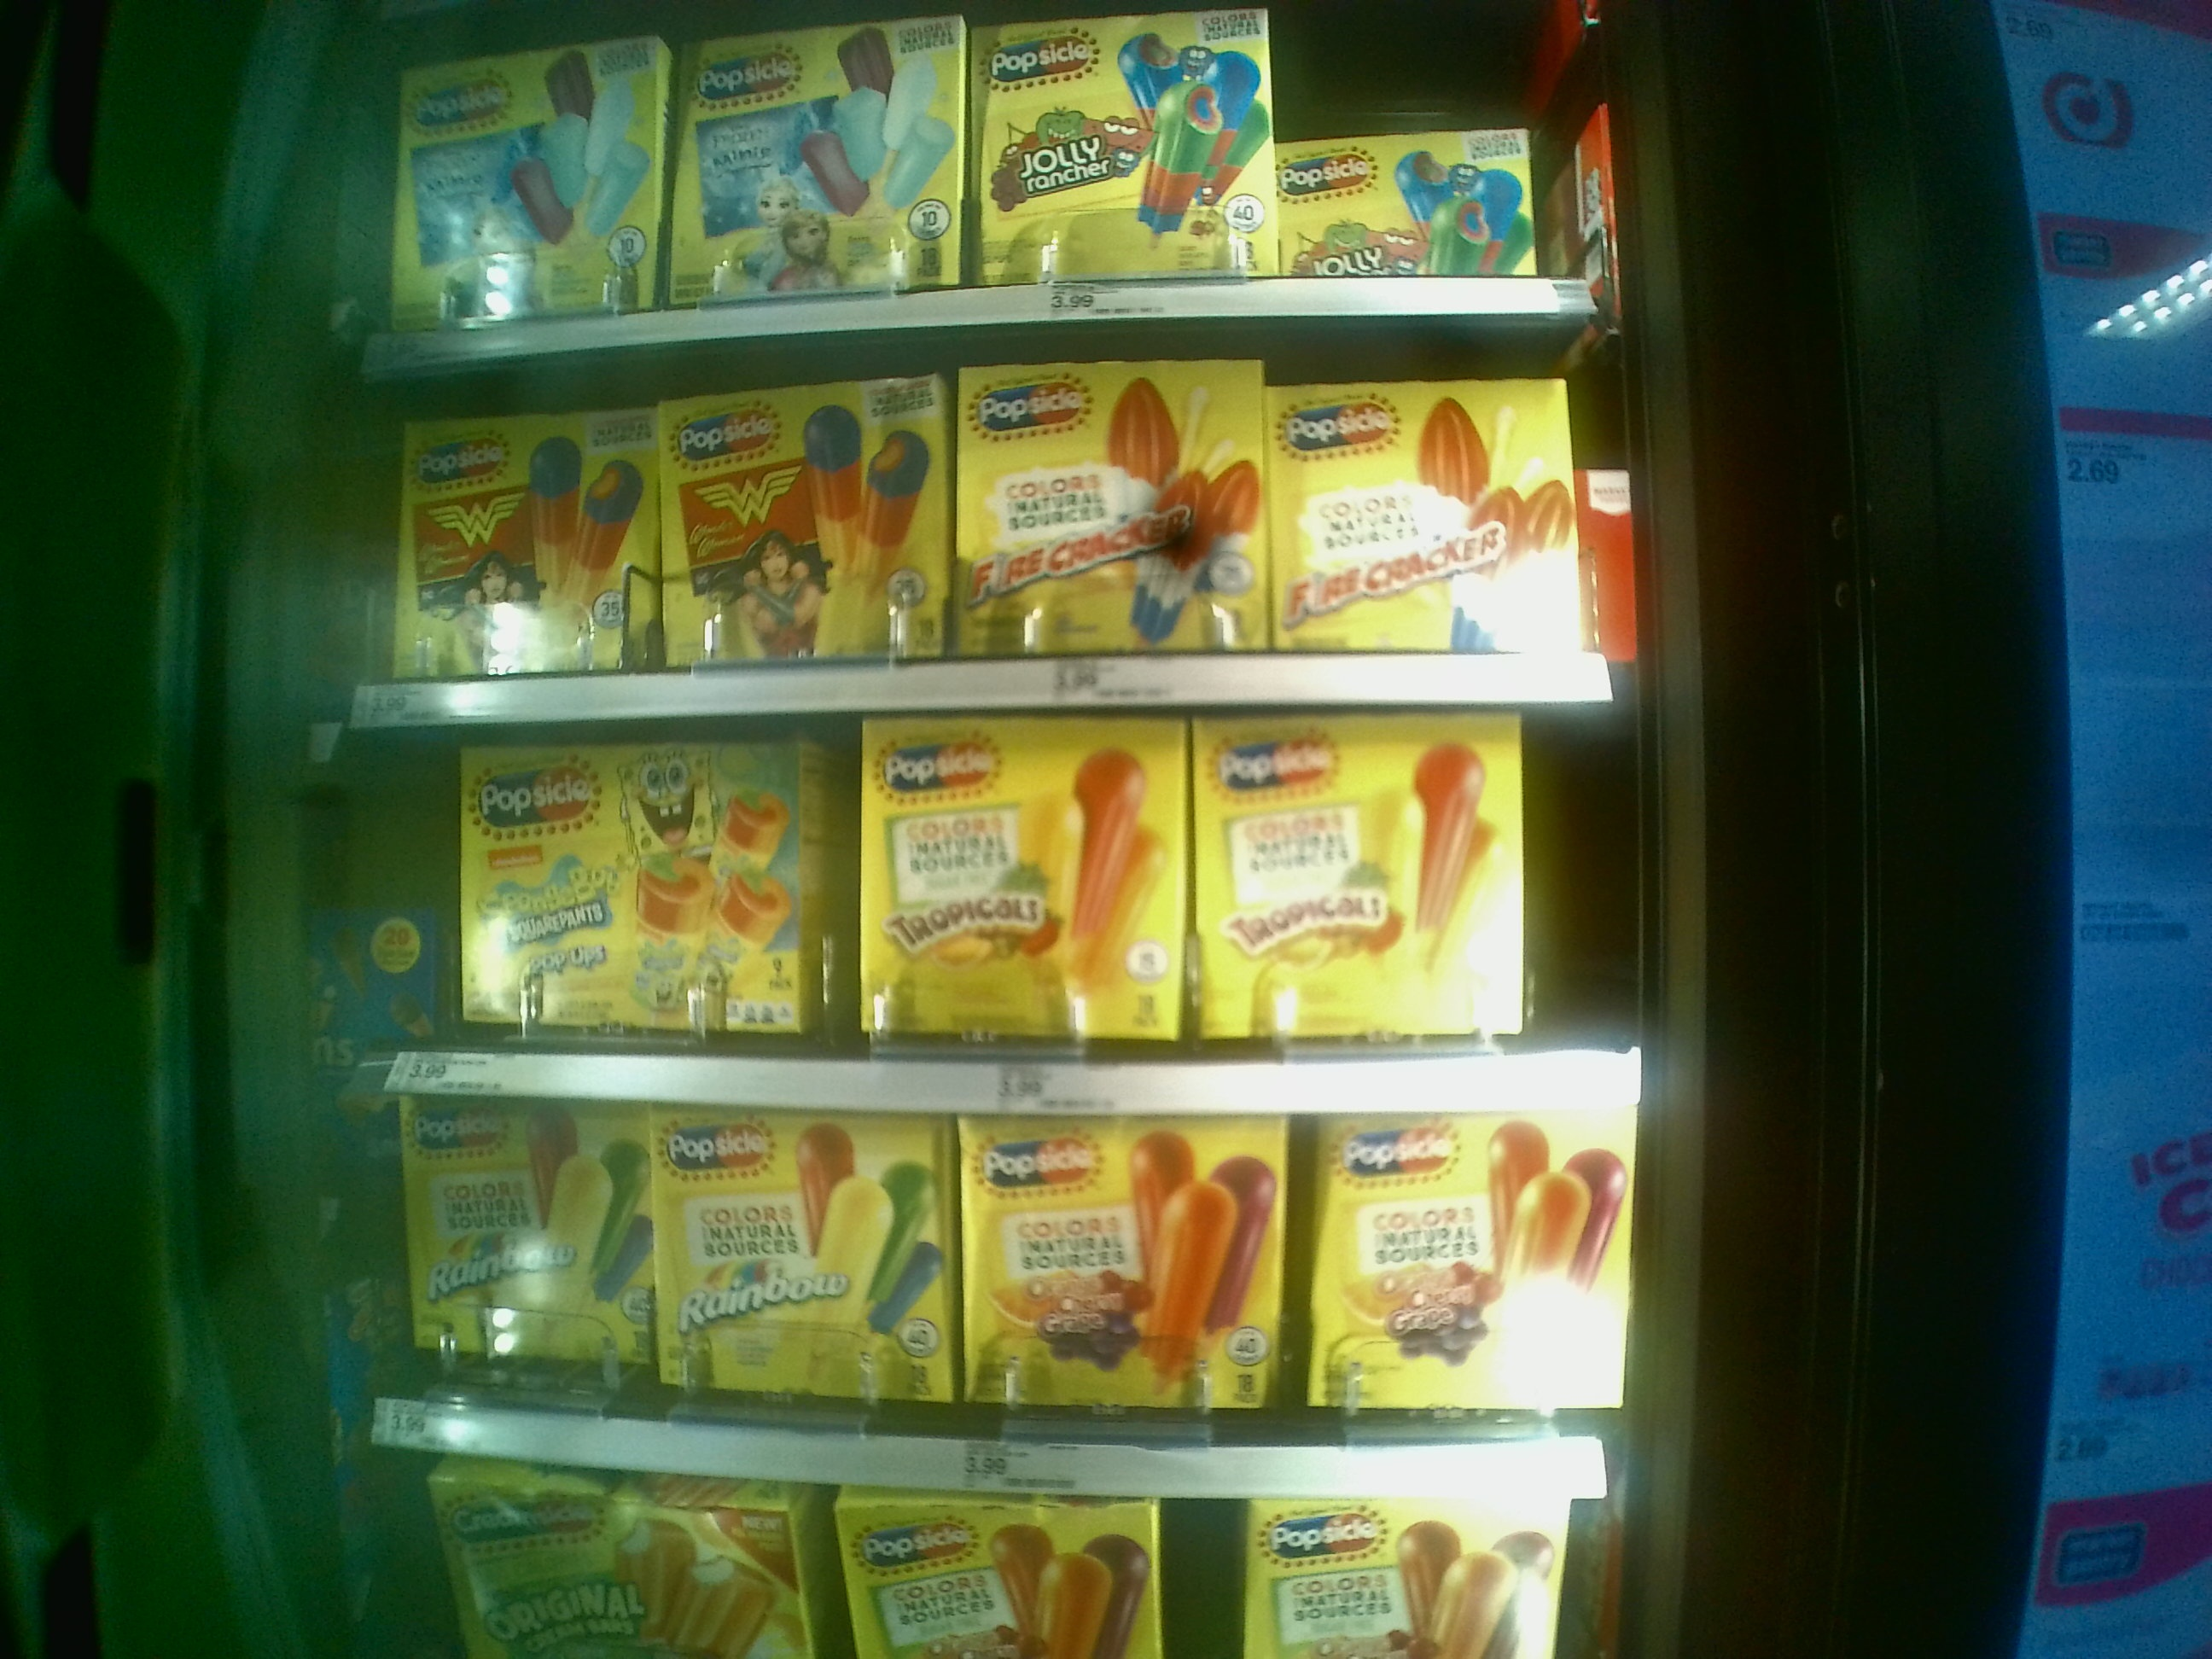shelf: (383, 1082, 1629, 1485), (361, 732, 1656, 1100), (364, 378, 1622, 723)
